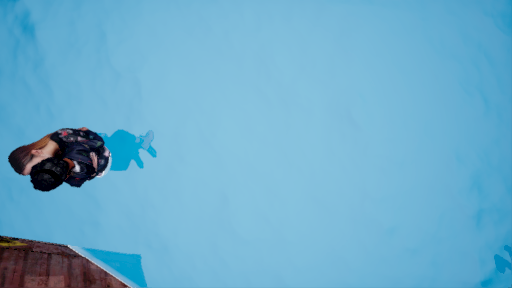person: (13, 119, 169, 188)
